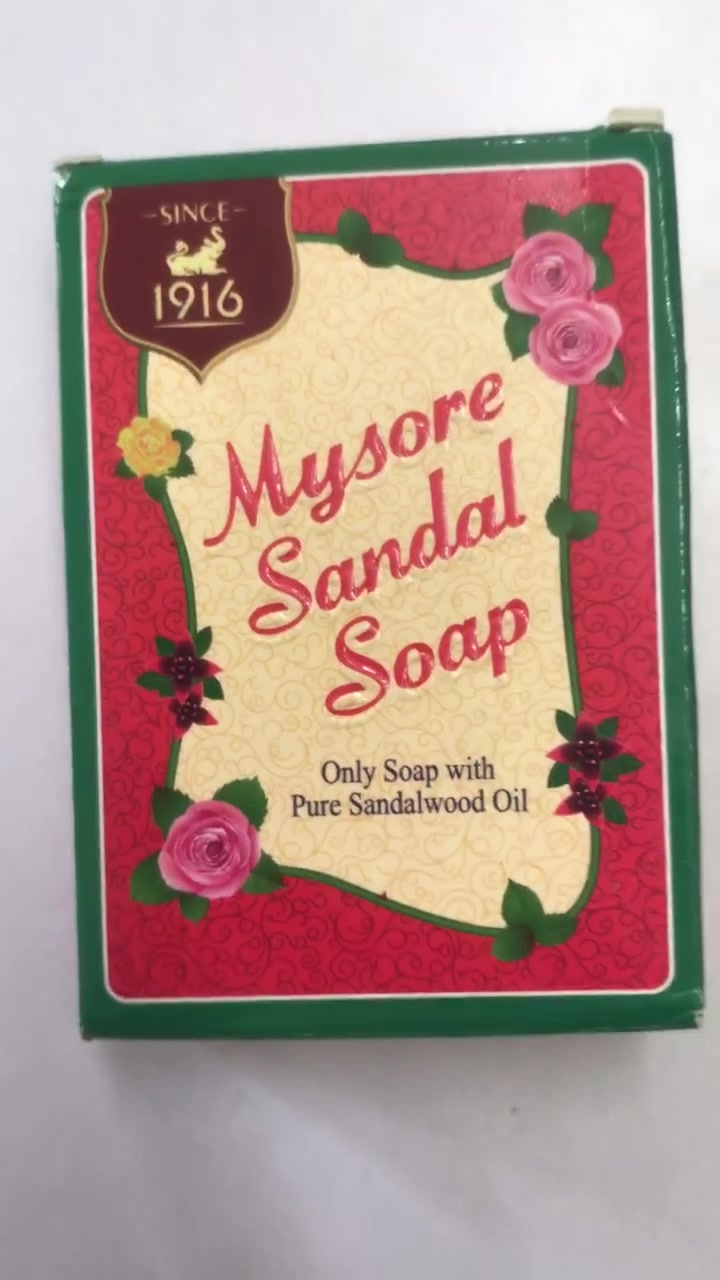mysore sandal soap: (85, 173, 669, 1014)
